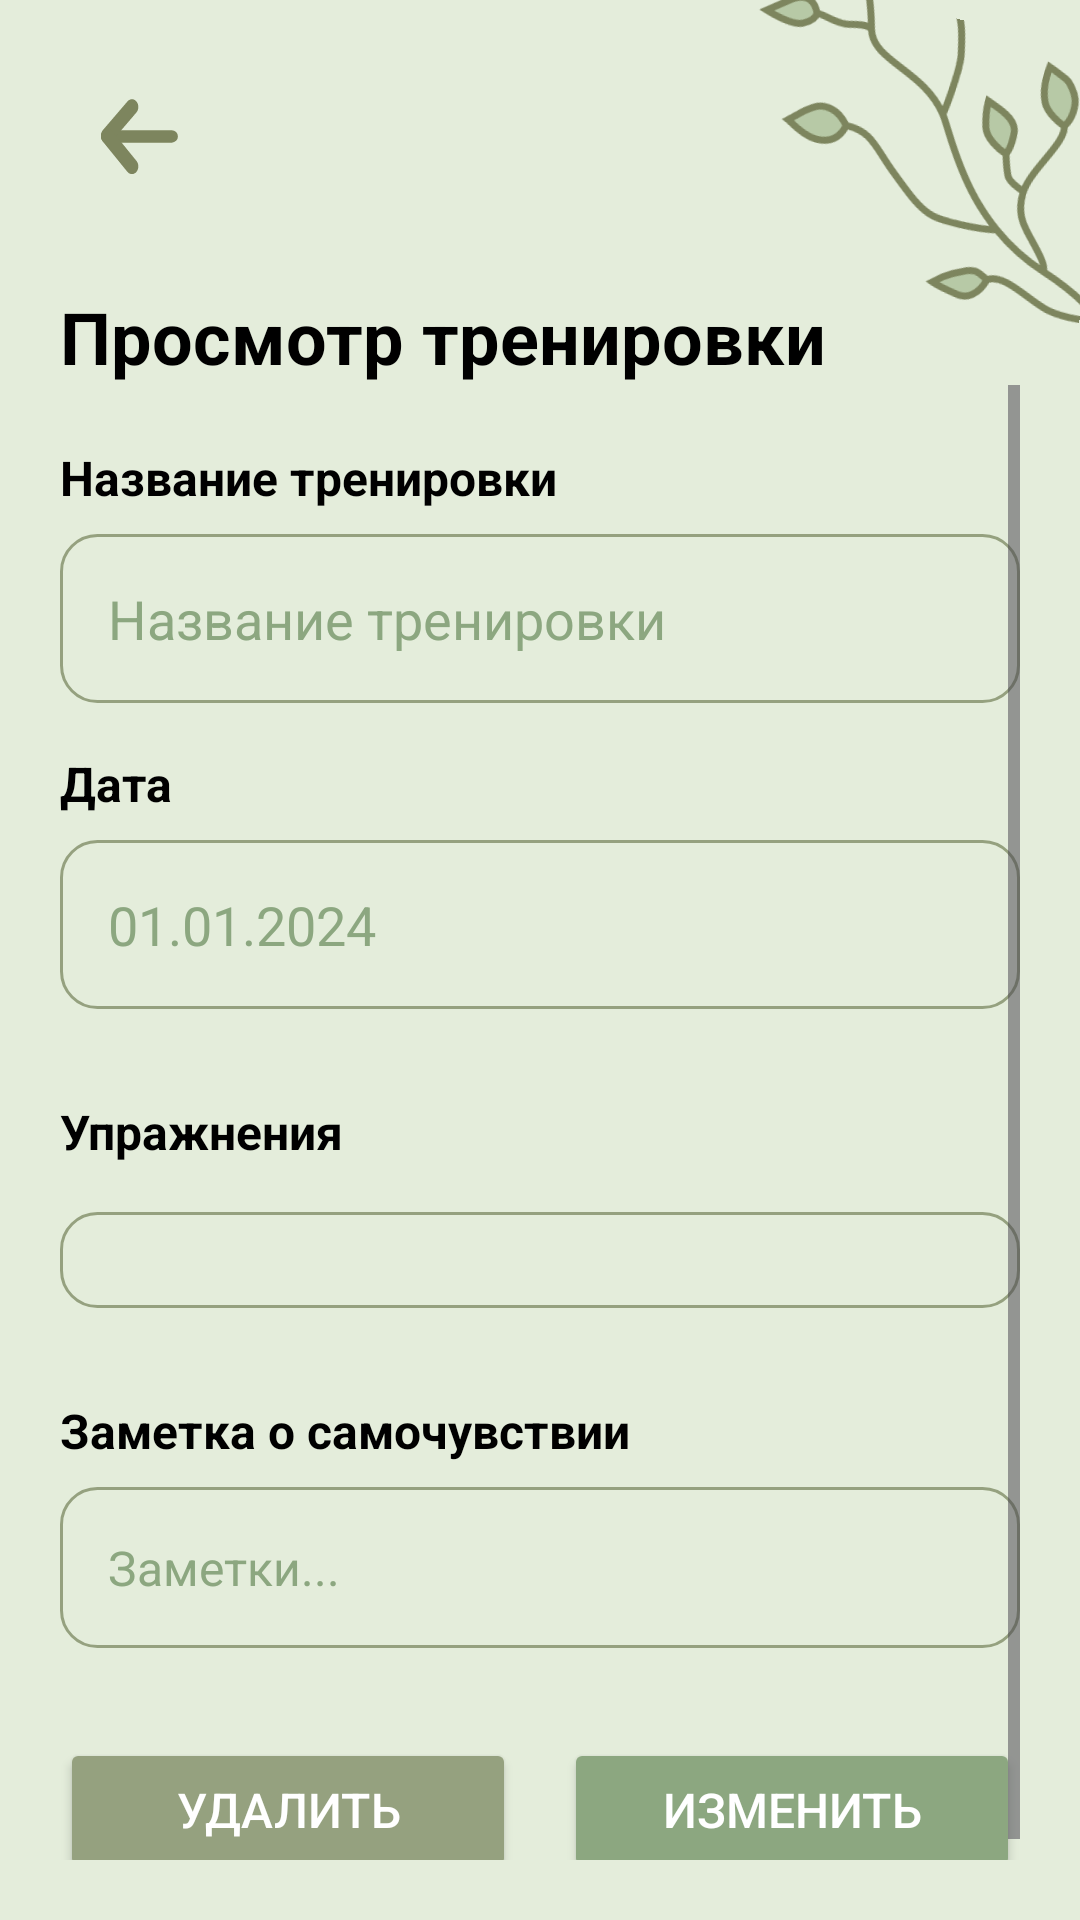

Icons on this 1080 x 1920 Android screen, each with the point to tap as [x,y]:
back: [139,136]
